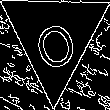O_NW: (27, 5, 82, 70)
